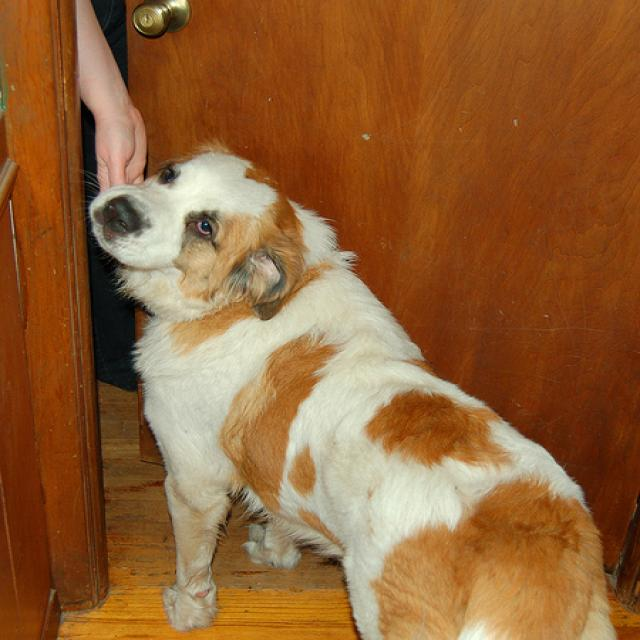dog: (88, 141, 303, 319)
